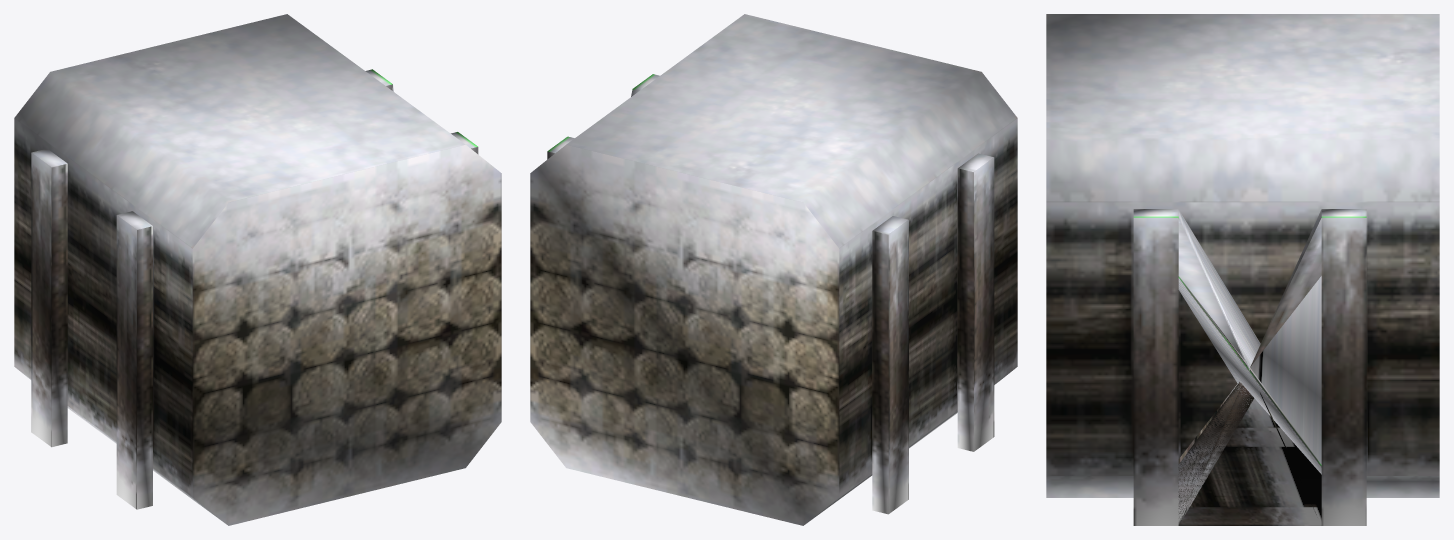
Rendered from stbuho13.dae.
The picture shows the model from 3 angles, left to right: view 1: azimuth 30°, elevation 25°; view 2: azimuth 150°, elevation 25°; view 3: azimuth 270°, elevation 25°; orthographic projection. The views are drawn at different scales.
Parts seen in each view (by area): view 1: logstack; view 2: logstack; view 3: logstack, urn.
Part boxes in pixels (box(x1,y1,x2,y2)): logstack: box(14, 14, 501, 525); logstack: box(530, 14, 1017, 525); logstack: box(1046, 14, 1439, 525); urn: box(1178, 209, 1321, 525).
Size of the model in its own units: 1.1 by 1 by 1.
1 material, 1 textured.
